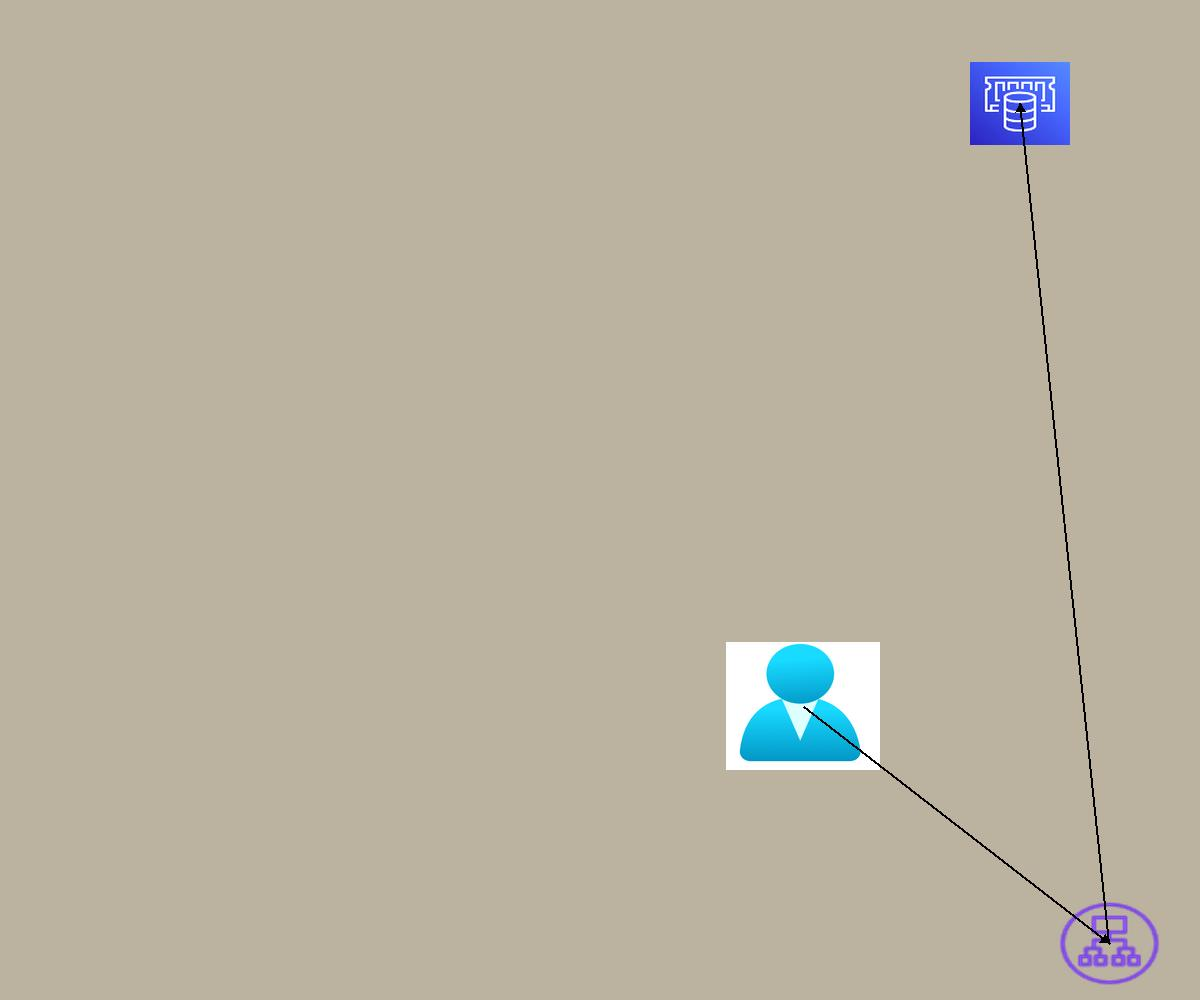AWS-ElastiCache: (970, 62, 1070, 145)
AWS-Res_Elastic-Load-Balancing_Application-Load-Balancer: (1056, 899, 1163, 988)
Azure_users: (726, 642, 880, 770)
